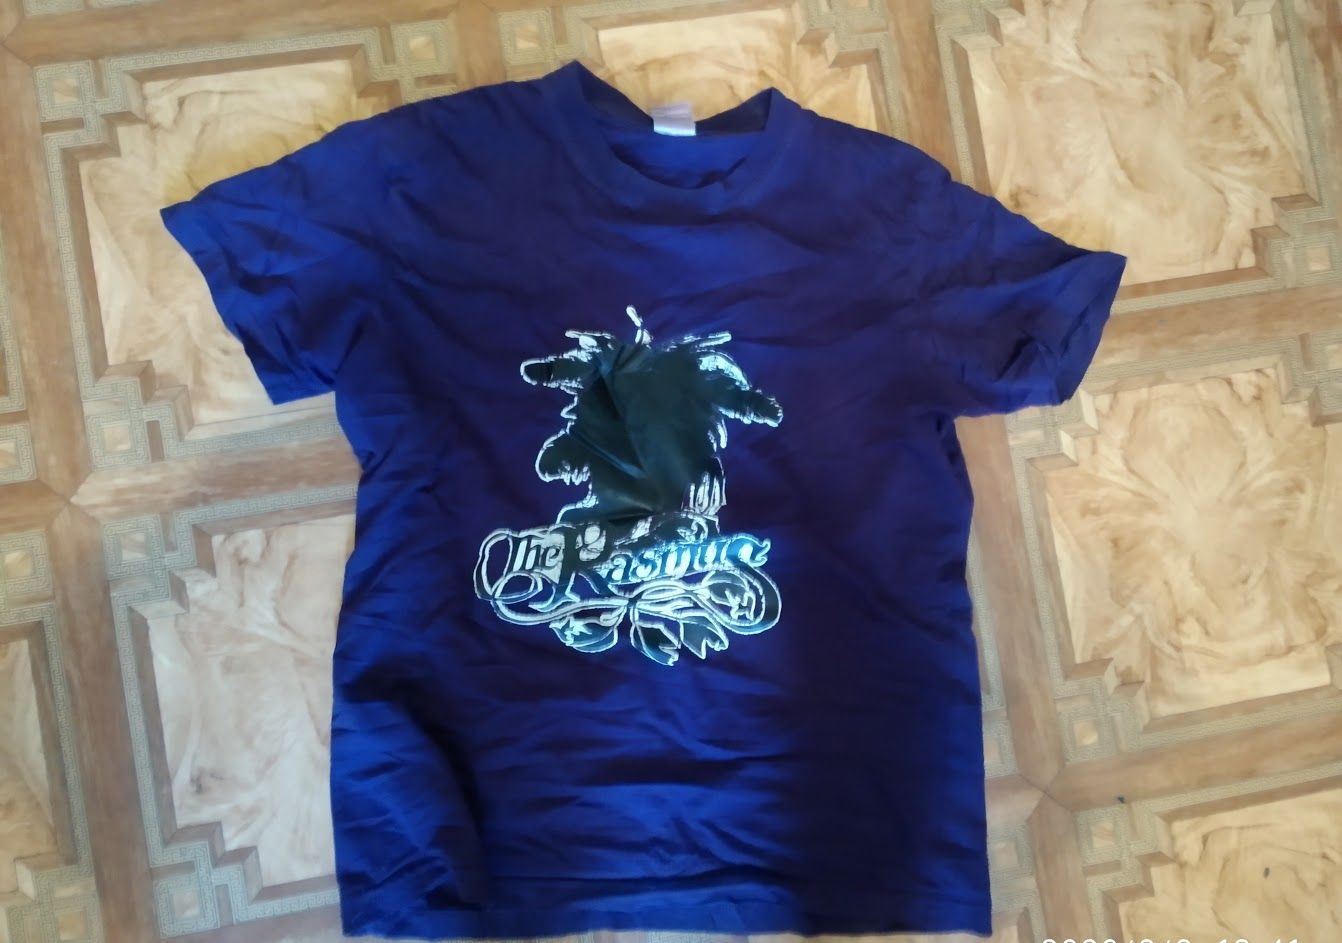clothes: (132, 52, 1126, 931)
